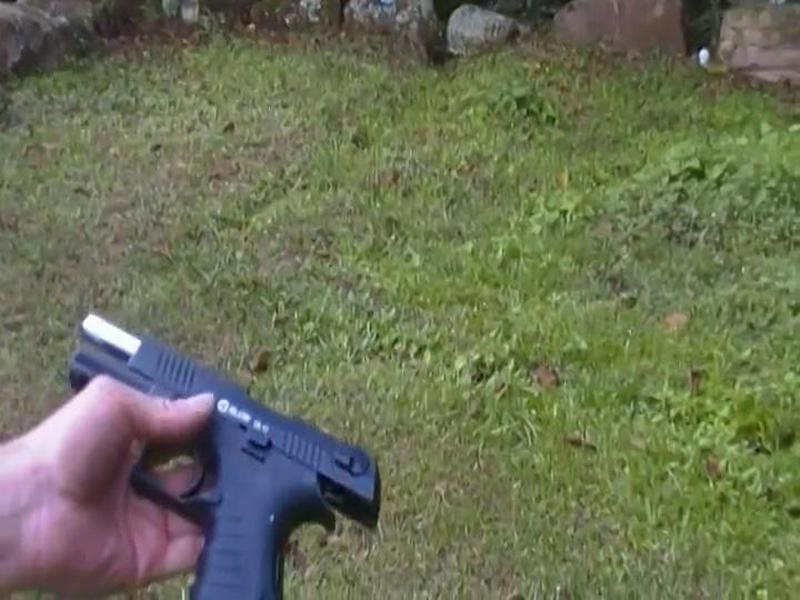Pistola: (40, 318, 408, 600)
